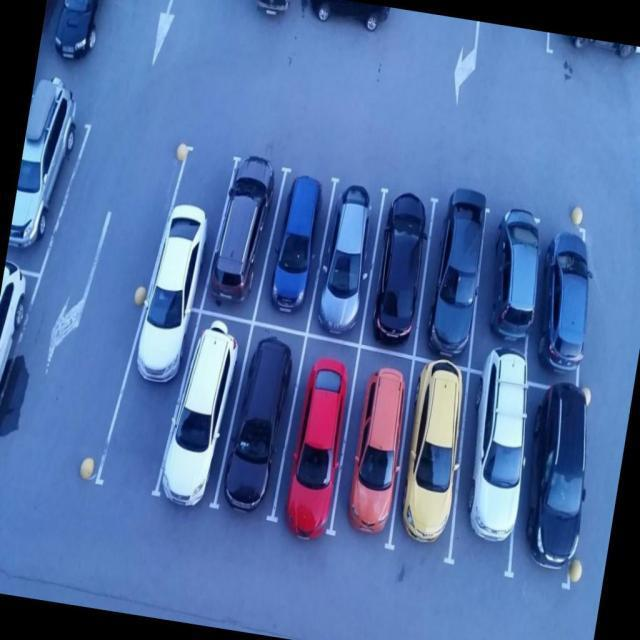car: (101, 298, 197, 486), (389, 360, 477, 560), (330, 348, 418, 546), (506, 394, 594, 584), (166, 309, 250, 507), (448, 374, 530, 570), (279, 330, 357, 526), (198, 154, 288, 318), (523, 214, 604, 394), (147, 145, 235, 303), (228, 330, 304, 510), (6, 105, 88, 270), (252, 166, 334, 328), (359, 186, 436, 356), (412, 196, 491, 360), (466, 204, 542, 374), (310, 185, 386, 332), (0, 273, 34, 457), (548, 32, 640, 70)
